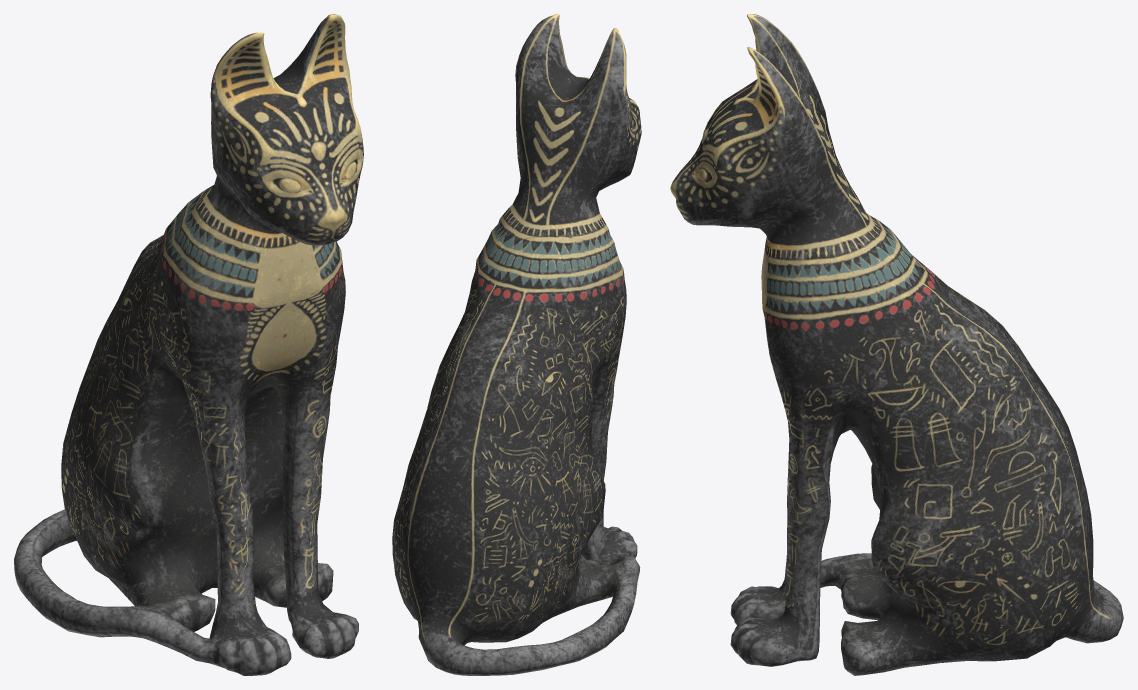
Rendered from statue_..glb.
3 views of the same model, side by side, from view 1: azimuth 30°, elevation 25°; view 2: azimuth 150°, elevation 25°; view 3: azimuth 270°, elevation 25° (orthographic). The views are drawn at different scales.
Parts seen in each view (by area): view 1: Cat_Statue; view 2: Cat_Statue; view 3: Cat_Statue.
Part boxes in pixels (x1,y1,x2,y2): Cat_Statue: (14, 14, 363, 675); Cat_Statue: (392, 14, 641, 675); Cat_Statue: (670, 14, 1123, 675).
Bounding box in the file's own units: 0.7912 × 2 × 1.33.
1 material, 1 textured.
